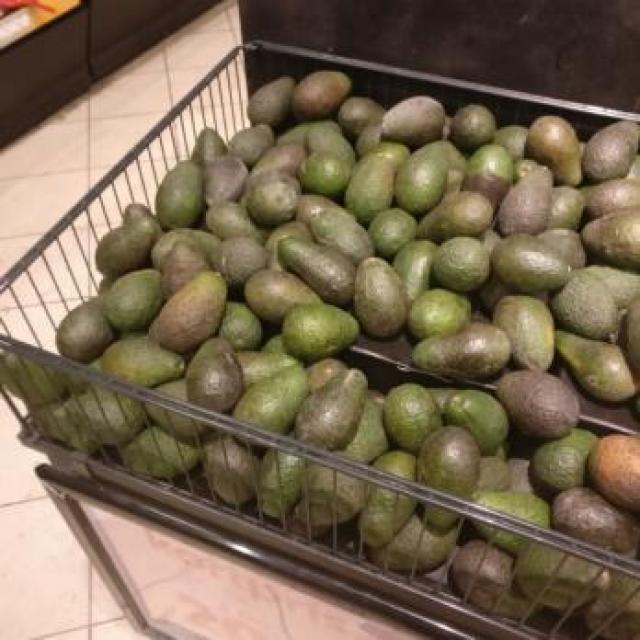Avocado: (294, 364, 372, 449), (276, 226, 360, 298), (149, 266, 221, 350), (502, 368, 579, 445), (405, 327, 515, 379), (500, 162, 559, 239), (278, 309, 368, 359), (190, 338, 244, 419), (498, 232, 574, 288), (361, 258, 406, 338), (346, 149, 390, 224), (401, 144, 445, 214)
